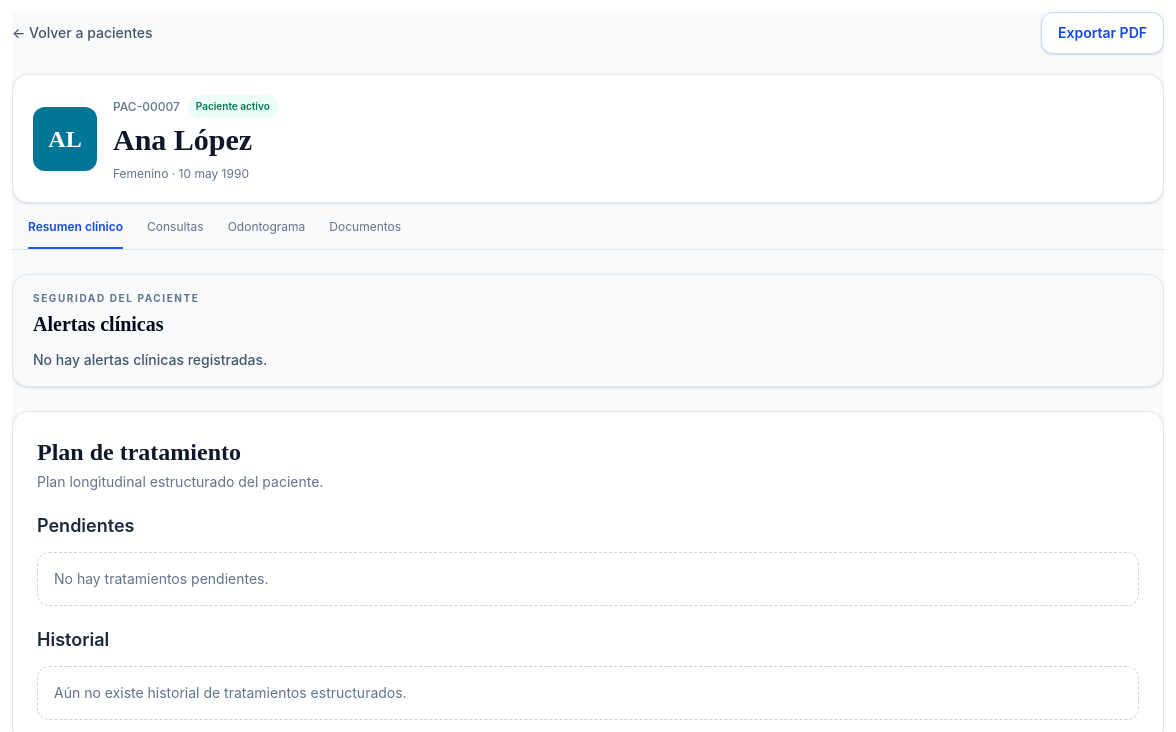
Scenario: HU-35 clinical record PDF export › shows an API error and allows a retry
Click the button "Exportar PDF" at x=1102, y=33, box [1041,12,1164,54]
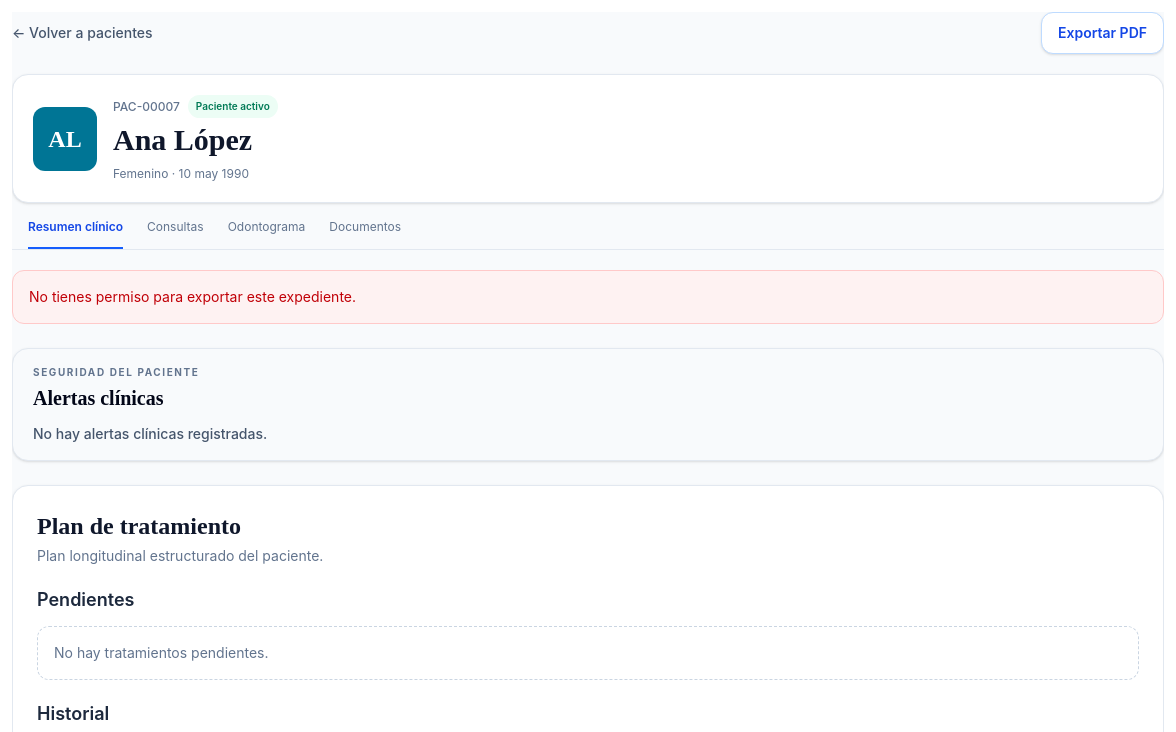
Check: the message reads "No tienes permiso para exportar este expediente.", box [29,288,356,305]
